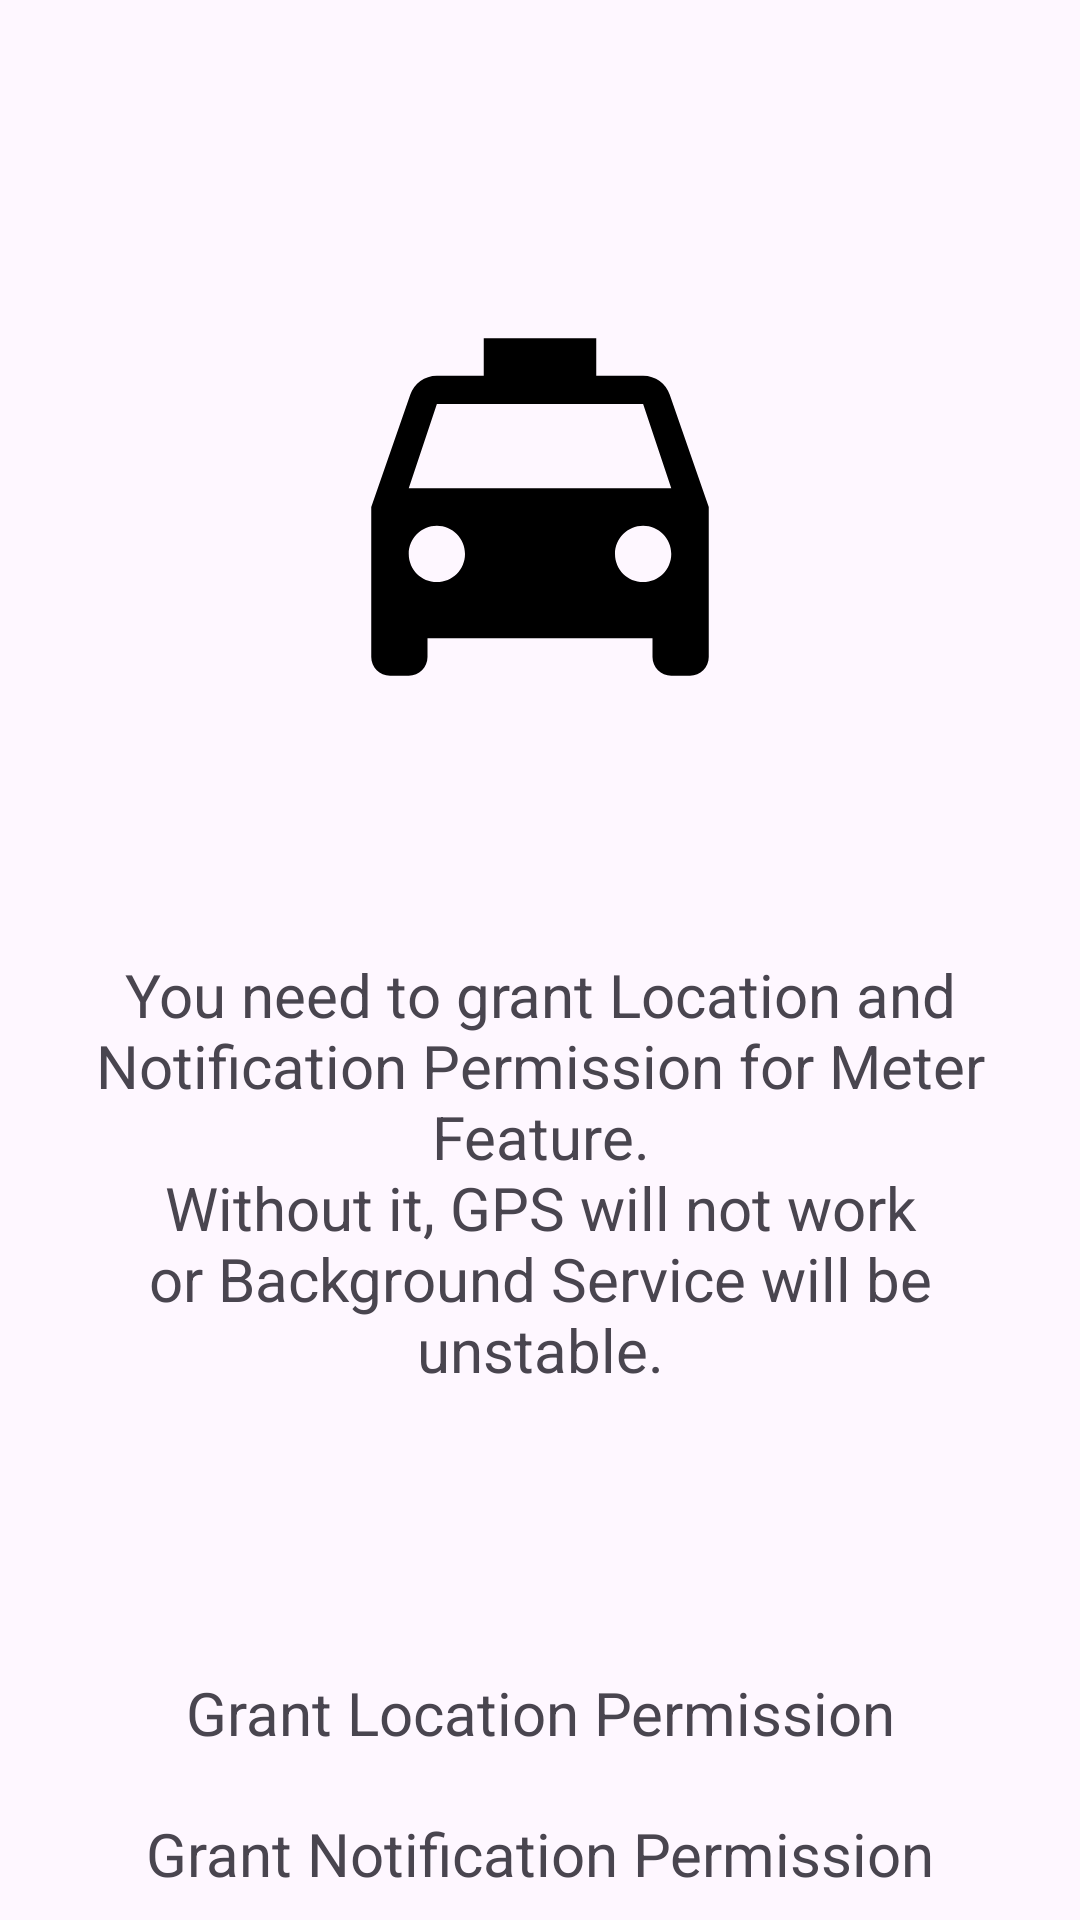

Locate icon controls on the screen. Image size 1080 × 1920, boxes as (x1, y1, x2, y2).
Taxi Meter: (371, 338, 709, 676)
